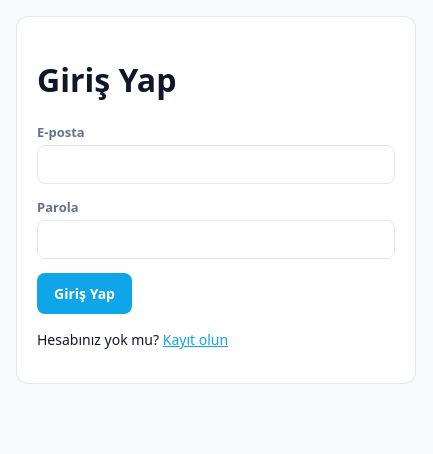
Login › başarısız girişte hata ERİŞİLEBİLİR şekilde gösterilir, store BOŞ kalır
In the field labelled "E-posta": (216, 164) [37, 145, 395, 184], type "test@example.com"
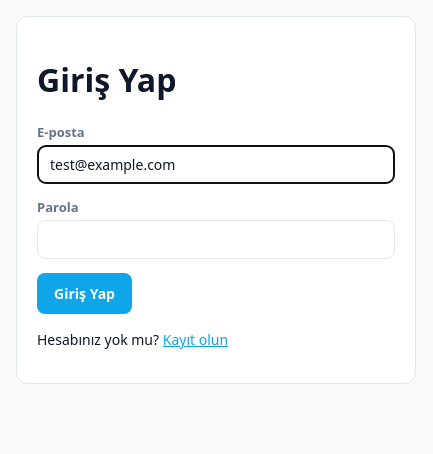
In the password field labelled "Parola": (216, 239) [37, 220, 395, 259], type "yanlis"
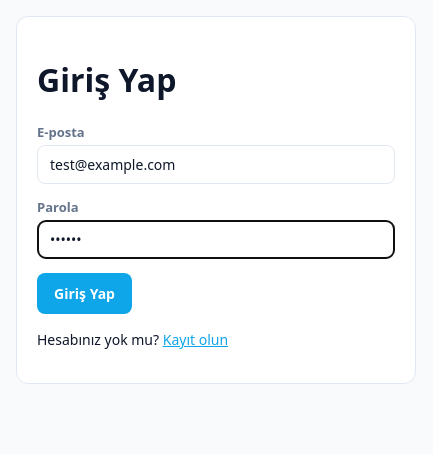
Click the button "Giriş Yap": (84, 293) [37, 273, 132, 314]
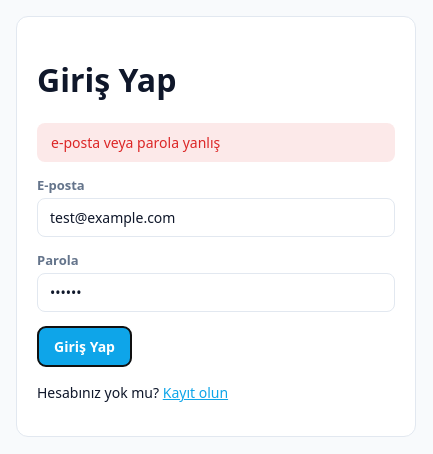
Check: the message reads "e-posta veya parola yanlış", box [51, 133, 220, 152]
